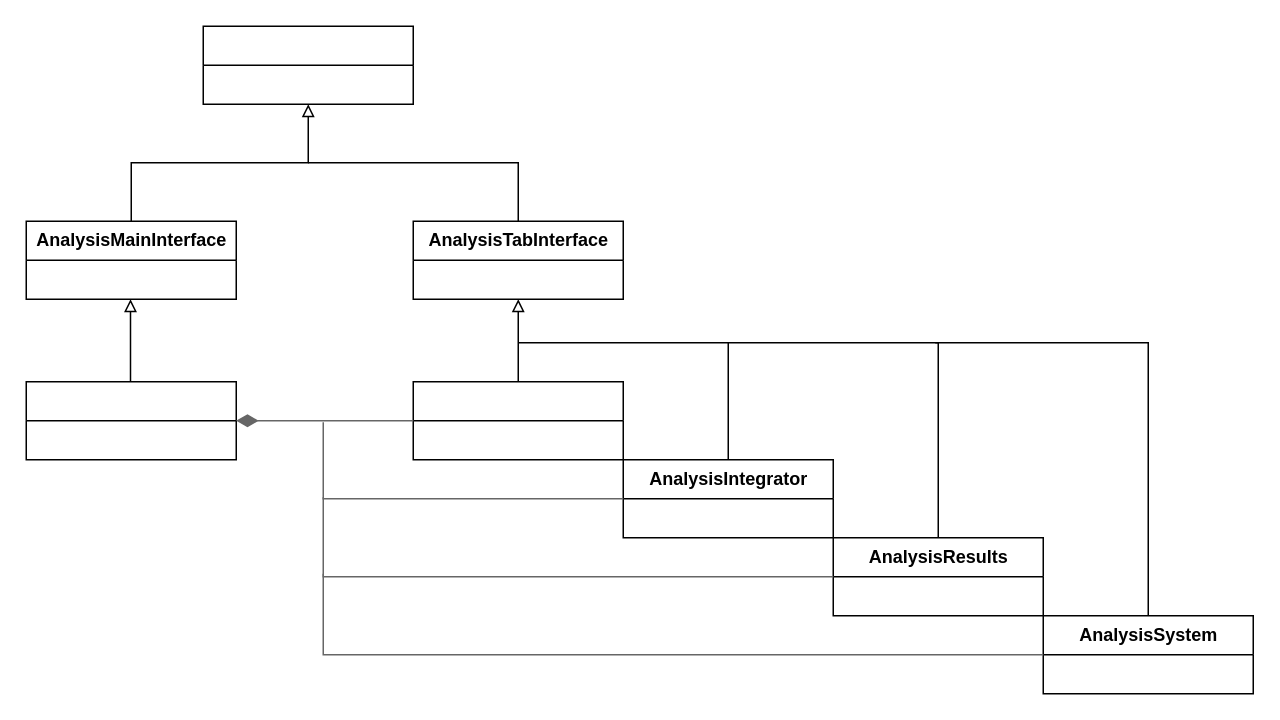
This 1280x720 diagram has some shape labels left out. The shapes that lost their labels are listed below. From the top down, each one's box as (x1, y1, x2, y2) in pixels, then its label:
(202, 25, 413, 104): AnalysisBase
(25, 380, 236, 460): AnalysisMain
(412, 380, 623, 460): AnalysisConvergence
